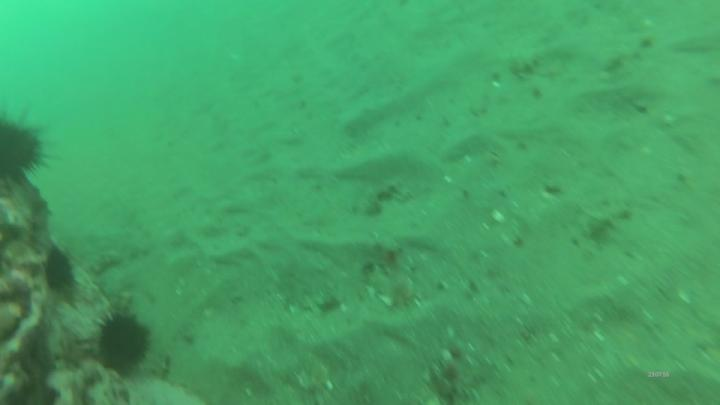echinus: (102, 313, 149, 380), (2, 119, 44, 191), (45, 248, 78, 300)
